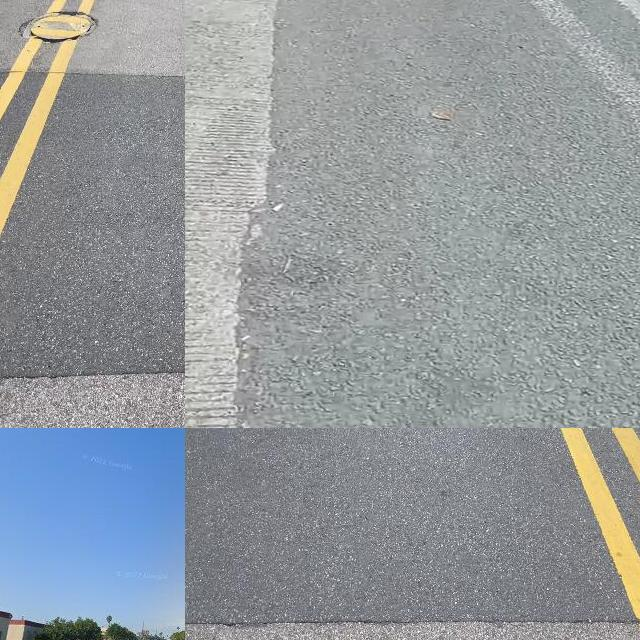Sambungan: (185, 428, 640, 633), (0, 70, 185, 380), (185, 0, 281, 428)
